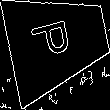P_E: (34, 19, 83, 66)
